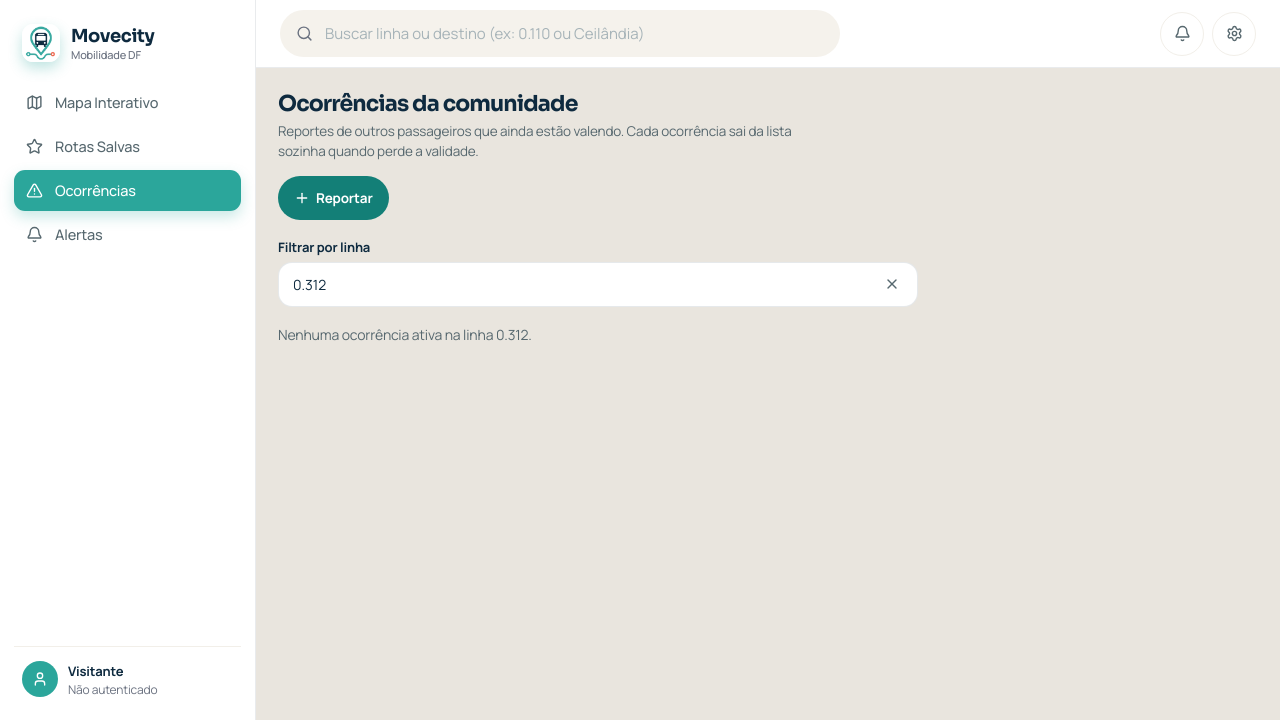
Test: OcorrenciasPage (lista — US #24) › o botão de limpar volta a listar todas
Click the button named "Limpar filtro de linha" at (892, 284), box [870,262,914,306]
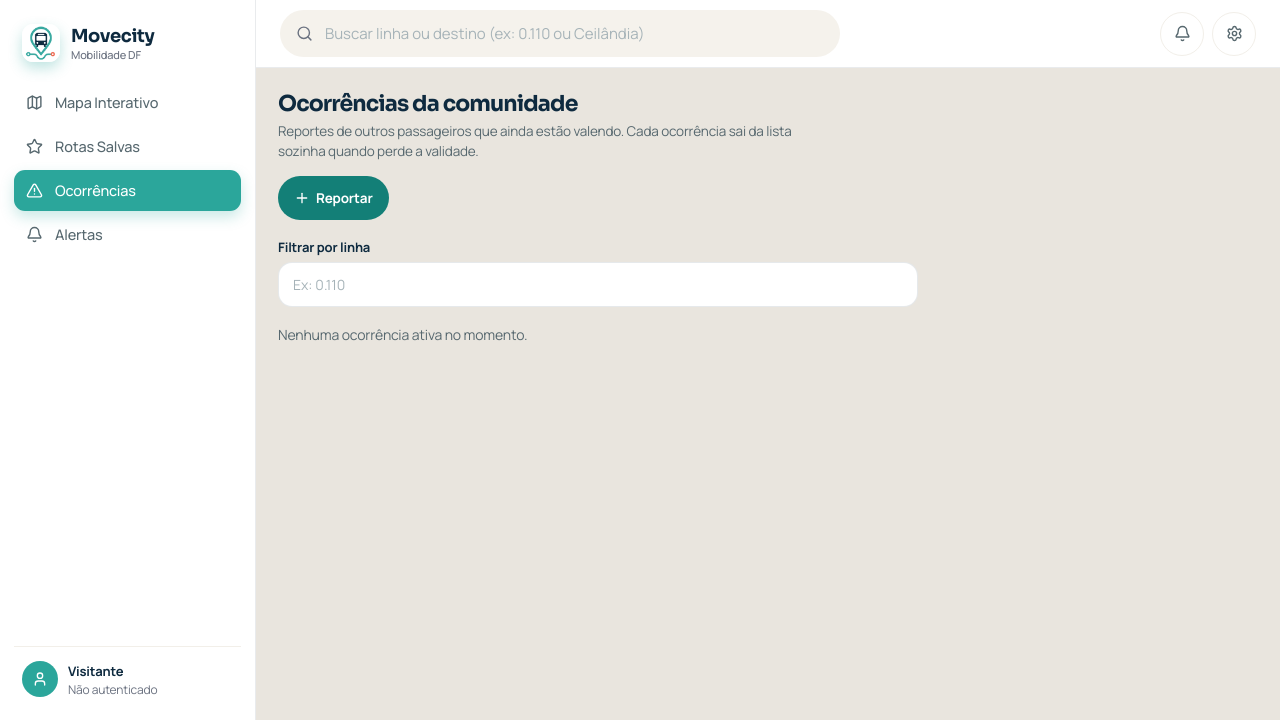
Check: the field with placeholder "Ex: 0.110" is empty, box [278,262,918,307]
